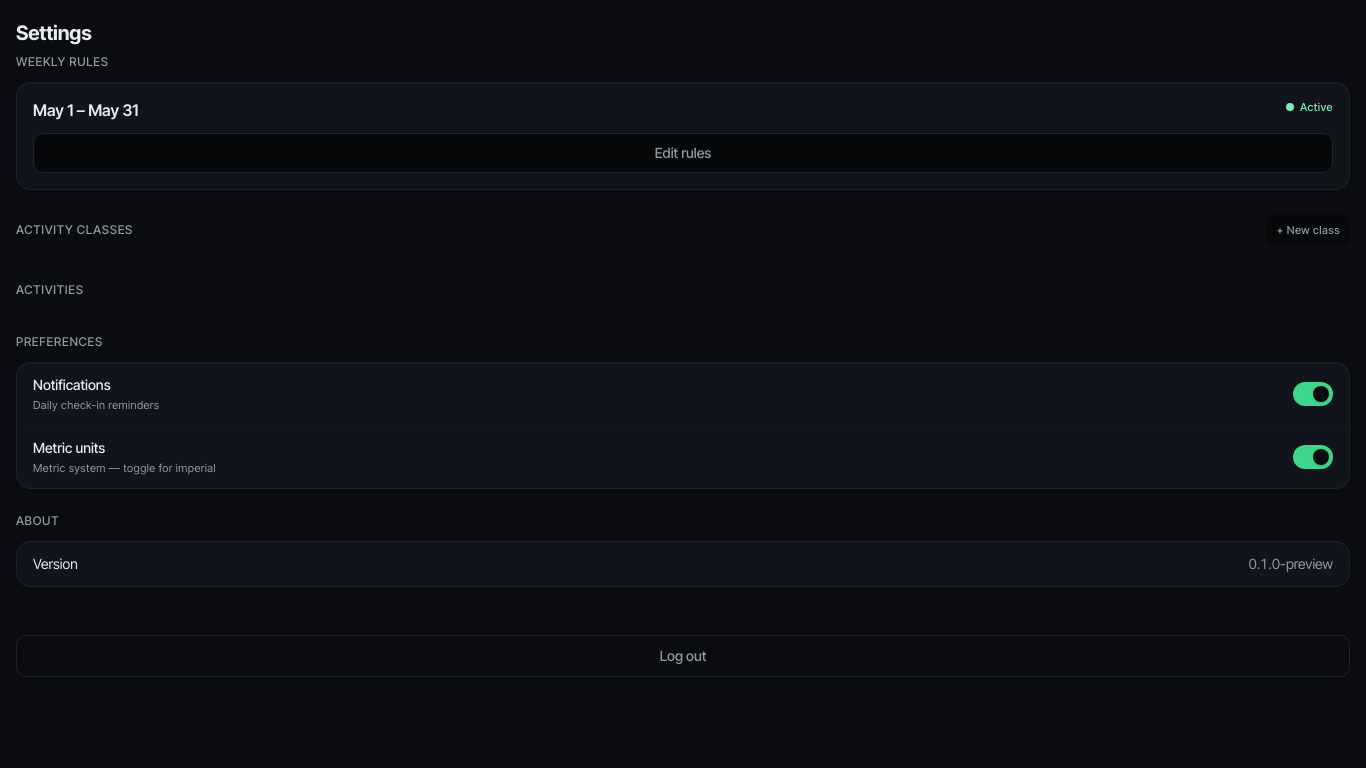
Test: SettingsScreen — S2.6 create activity class › shows API error message when create fails with duplicate id
Click the button "+ New class" at (1308, 230), box x1=1266 y1=214 x2=1350 y2=246
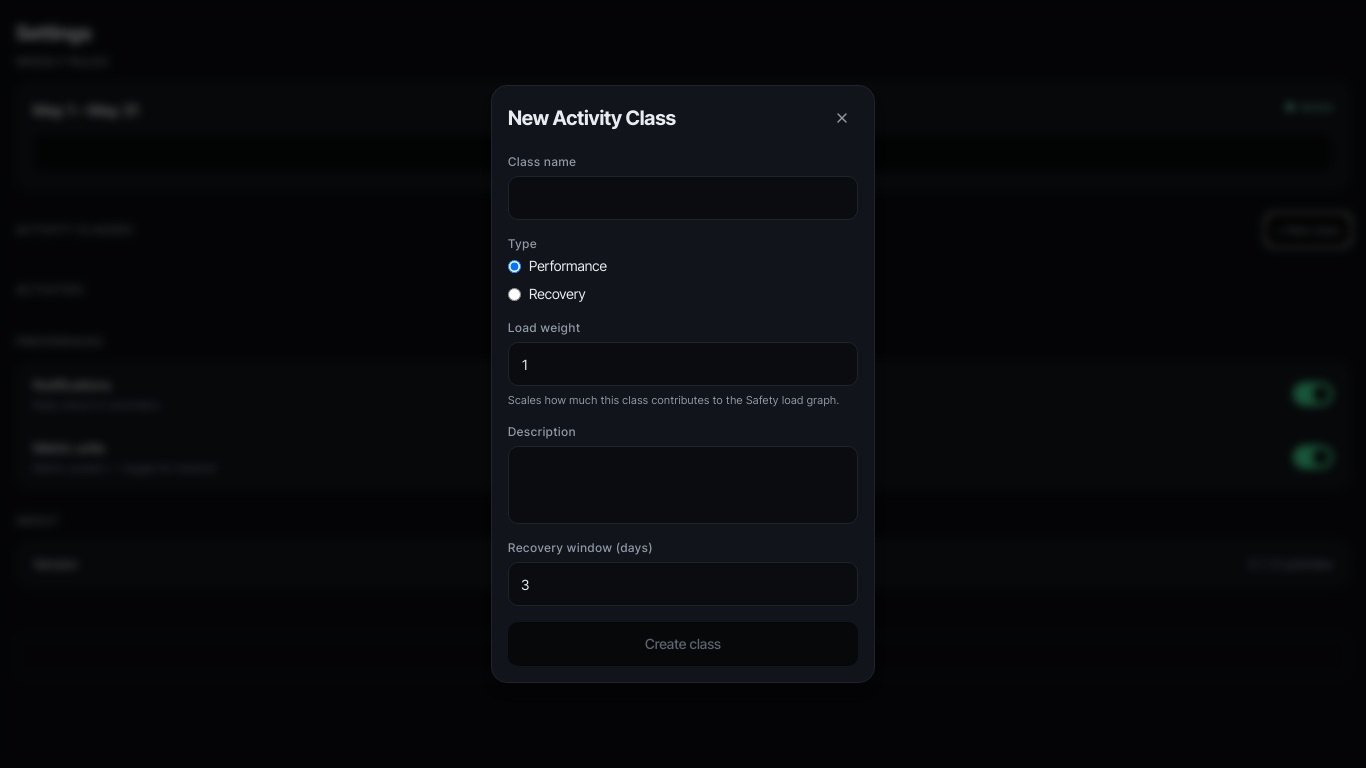
Type "Duplicate" into the field labelled "Class name" at (683, 198), box x1=508 y1=176 x2=858 y2=220
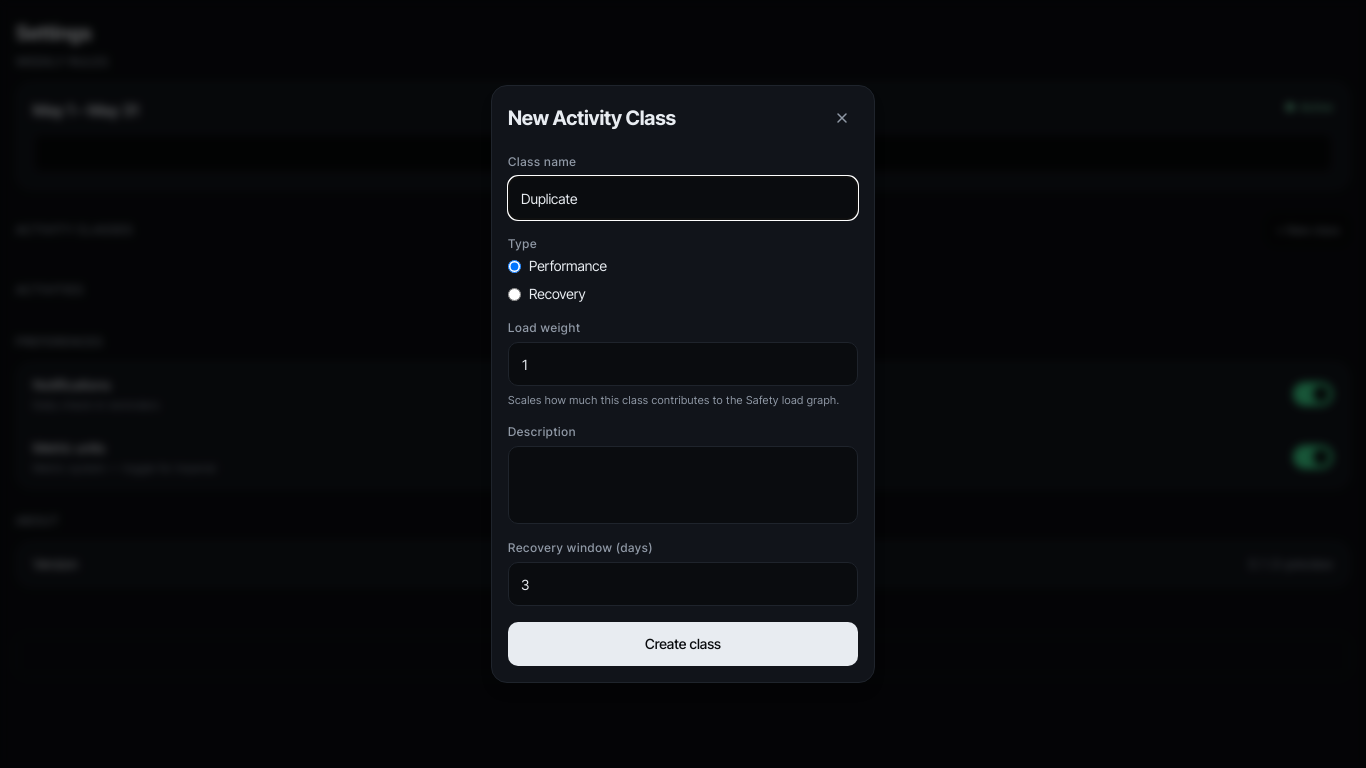
Click the radio button labelled "Performance" at (514, 266), box x1=508 y1=260 x2=521 y2=272
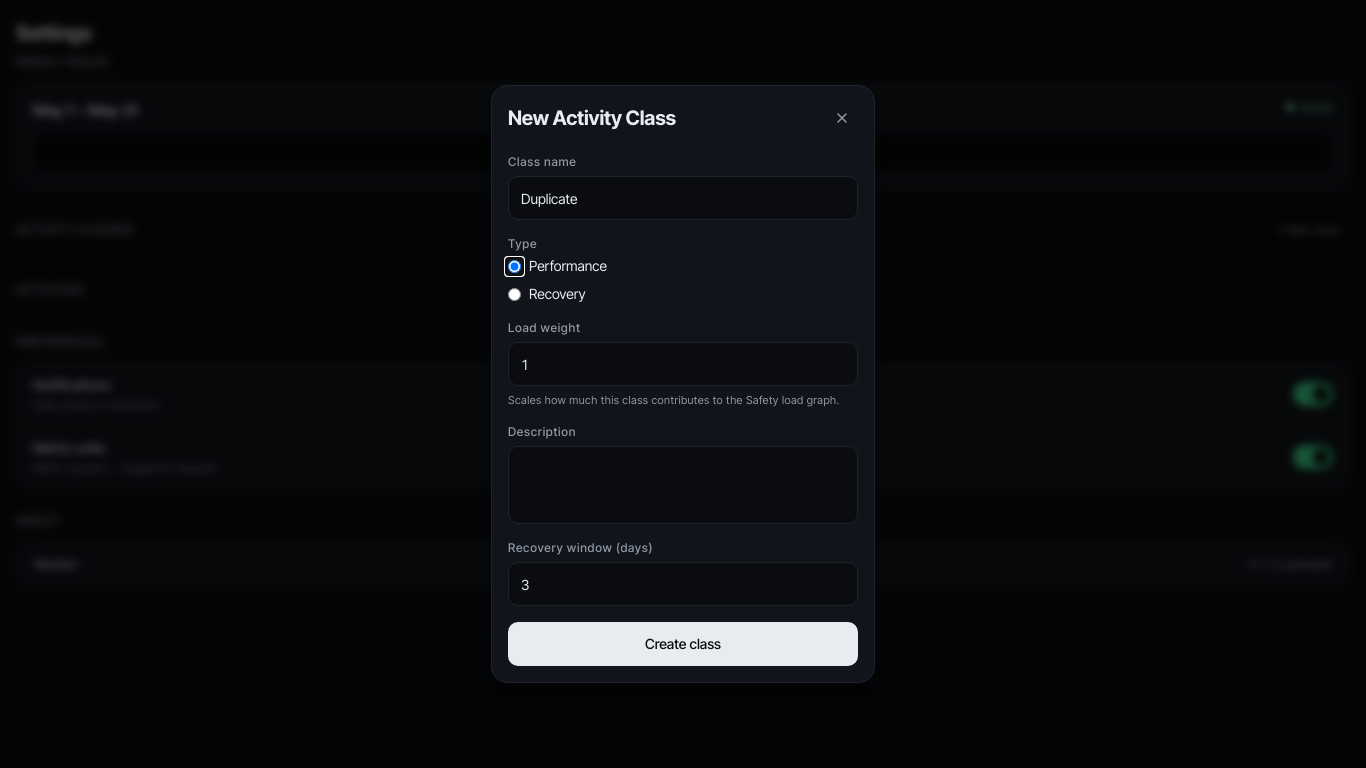
Click the button "Create class" at (683, 644), box x1=508 y1=622 x2=858 y2=666
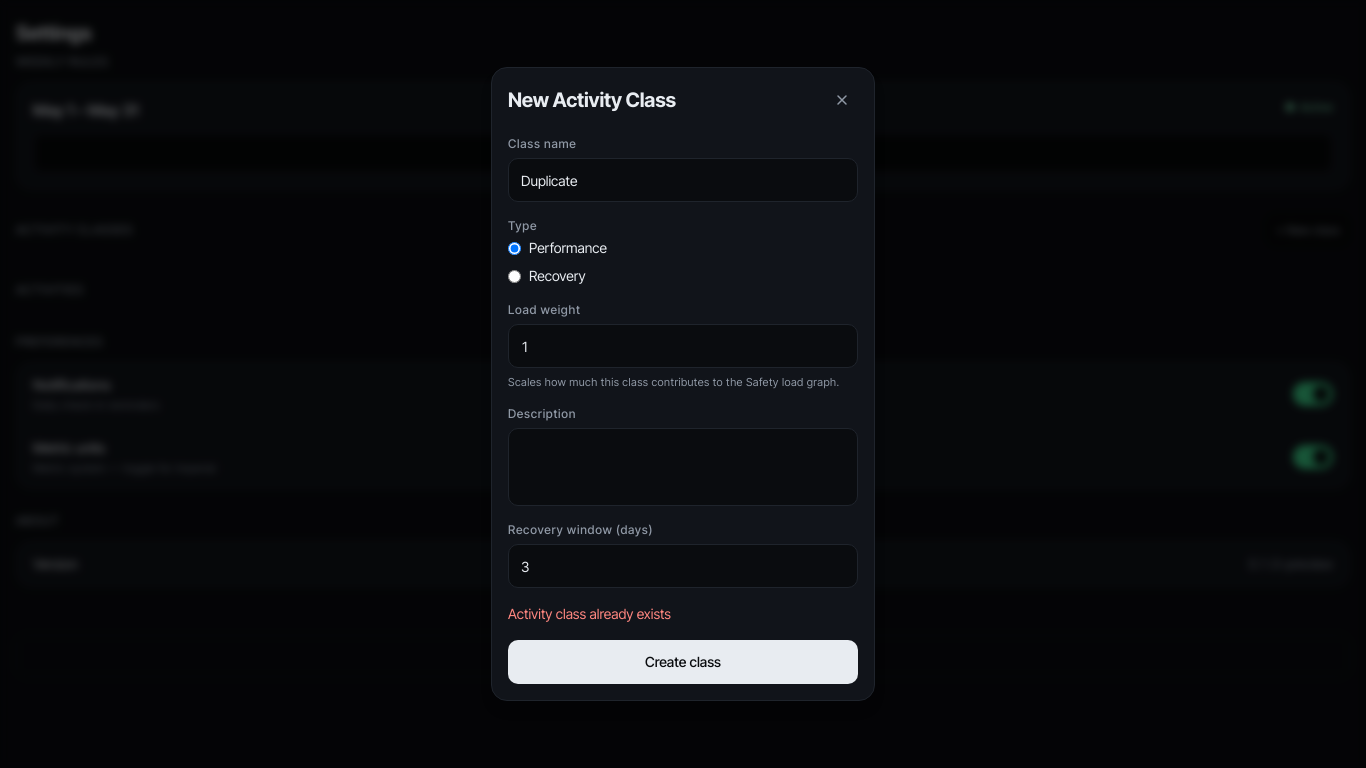
Now the text "Activity class already exists" is shown, box x1=508 y1=605 x2=671 y2=622
